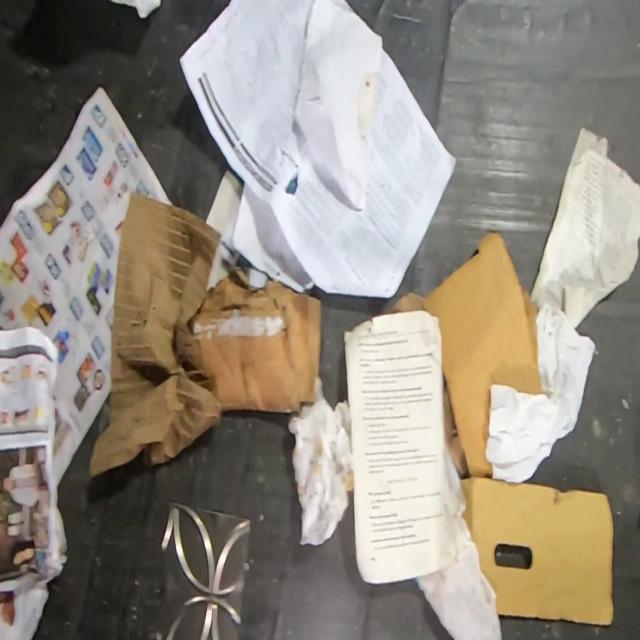cardboard: (85, 190, 324, 480), (381, 231, 544, 478), (461, 478, 615, 623)
metal: (159, 498, 253, 639)
